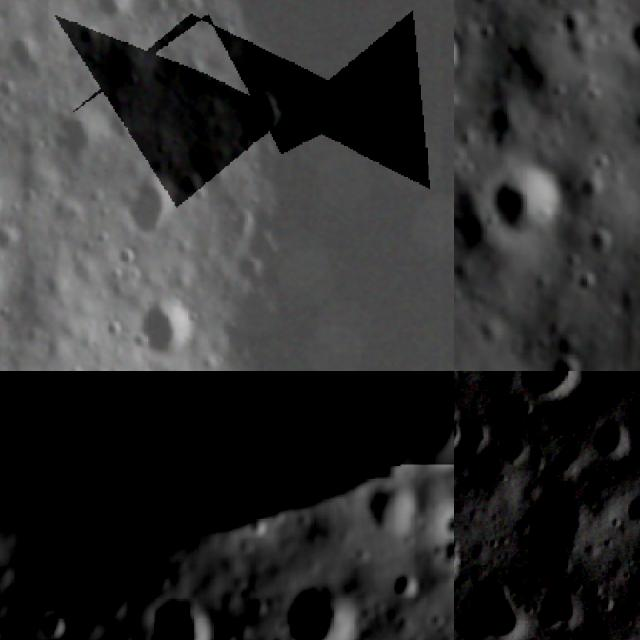crater: (0, 371, 454, 563), (483, 164, 563, 250), (520, 476, 597, 562), (454, 570, 534, 640), (275, 579, 364, 640), (116, 178, 192, 240), (226, 84, 293, 151), (133, 297, 196, 364), (42, 108, 109, 168), (498, 371, 581, 419), (533, 572, 587, 637), (480, 98, 535, 154), (143, 596, 211, 640), (454, 405, 502, 463), (583, 412, 636, 464), (498, 424, 539, 469), (557, 618, 633, 640), (576, 225, 614, 262), (0, 221, 36, 259), (574, 172, 607, 206), (618, 17, 640, 66), (210, 15, 241, 49), (386, 568, 423, 594), (533, 352, 581, 371), (39, 607, 66, 640), (94, 0, 131, 24), (454, 28, 470, 82), (620, 486, 640, 526), (433, 537, 454, 574), (454, 412, 468, 463), (439, 502, 454, 543), (454, 543, 467, 583)
